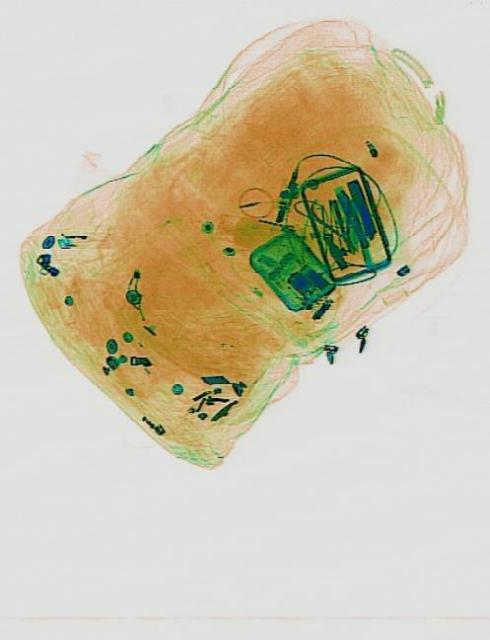Pliers: (306, 183, 369, 265)
